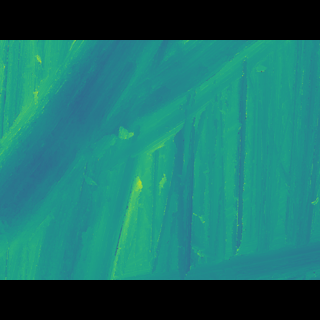Loch: (0, 69, 287, 233)
